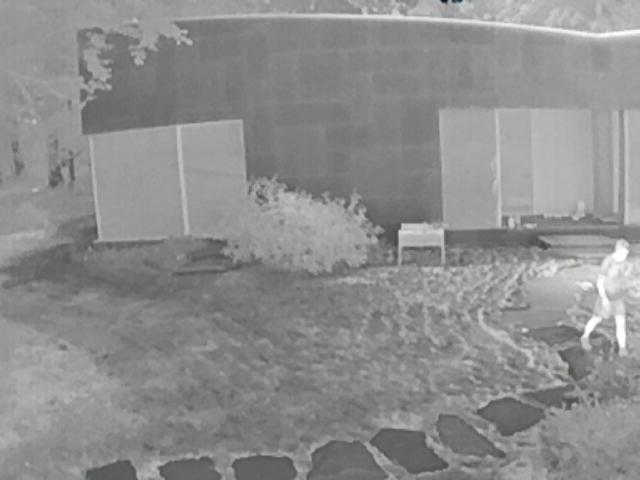person: (580, 238, 636, 358)
